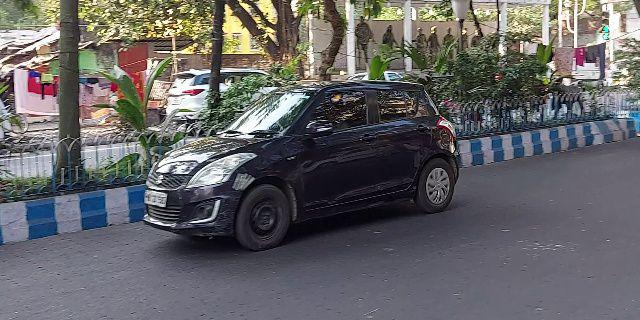Car: (135, 75, 463, 253)
